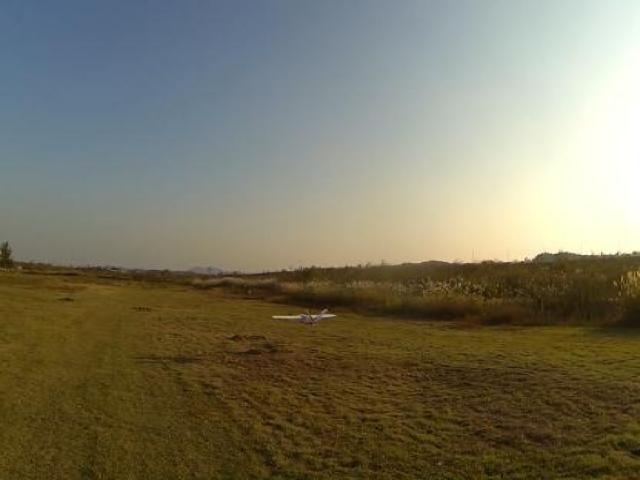uav: (264, 299, 339, 334)
